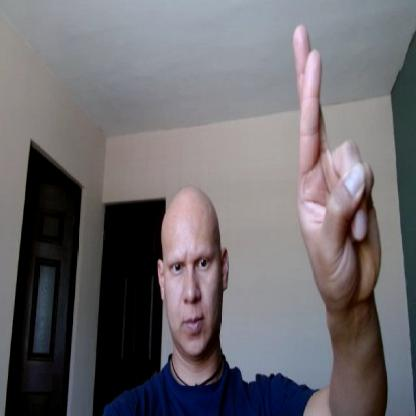R: (292, 22, 383, 298)
